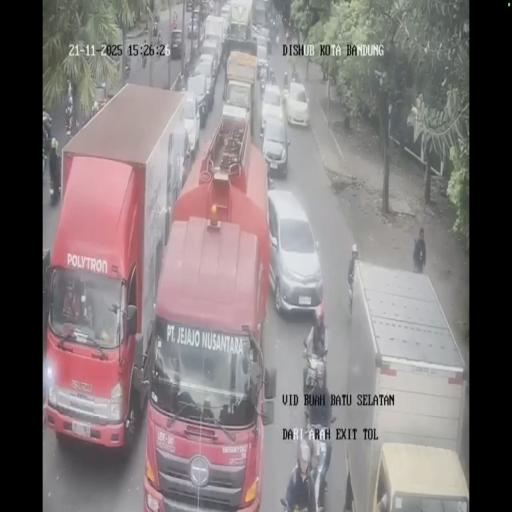3: (44, 82, 192, 454), (340, 259, 467, 508), (251, 0, 270, 33)
car: (268, 188, 323, 318), (166, 113, 191, 200), (221, 81, 253, 134), (284, 79, 310, 128), (260, 82, 284, 134), (200, 36, 220, 81), (255, 38, 269, 81), (187, 14, 201, 42), (170, 28, 182, 58), (220, 3, 231, 28)
truck: (64, 98, 74, 137), (269, 16, 278, 44), (268, 66, 276, 84), (286, 26, 293, 44), (156, 30, 162, 48), (124, 62, 130, 80), (141, 50, 147, 68)
